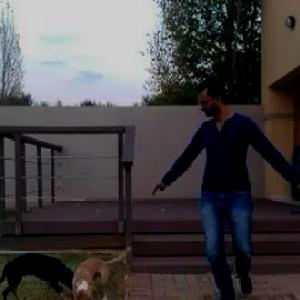land: (142, 71, 299, 299)
